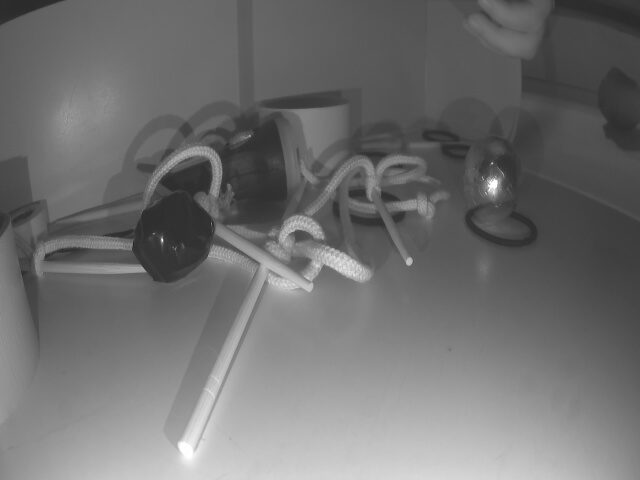Dead: (132, 196, 217, 284)
Live: (461, 137, 519, 223)
